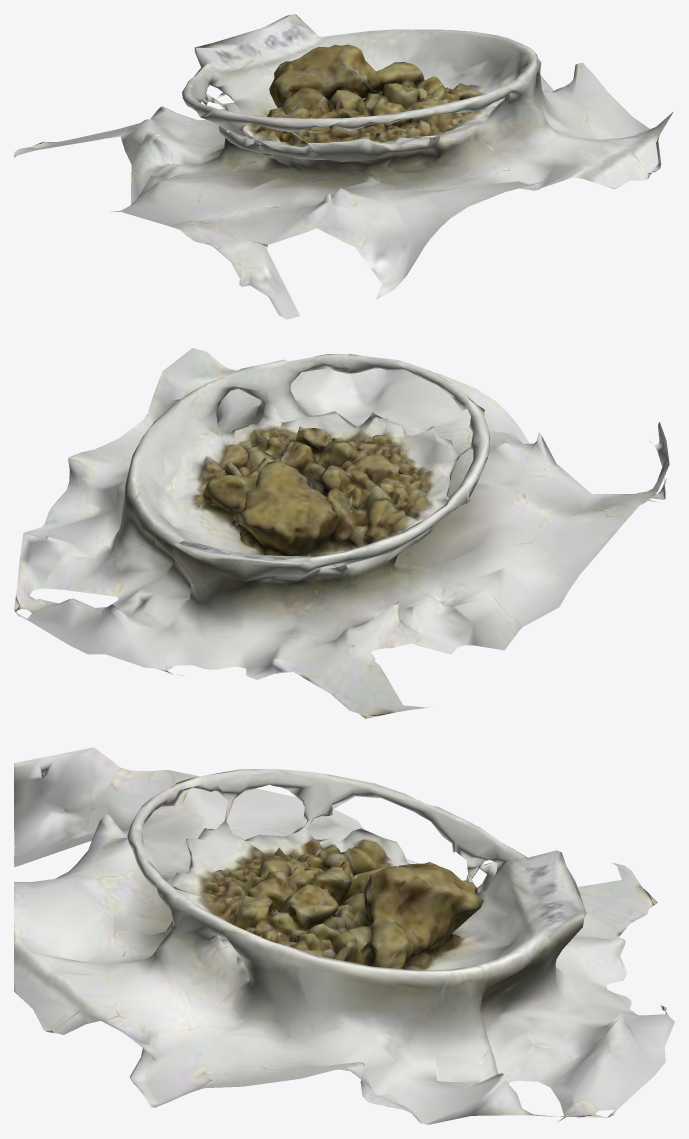
The model's file is hall.glb.
The picture shows the model from 3 angles, top to bottom: view 1: azimuth 30°, elevation 25°; view 2: azimuth 150°, elevation 25°; view 3: azimuth 270°, elevation 25°; orthographic projection. The views are drawn at different scales.
Size of the model in its own units: 1.23 by 0.3647 by 1.21.
Materials: 1 (1 with a texture image).
